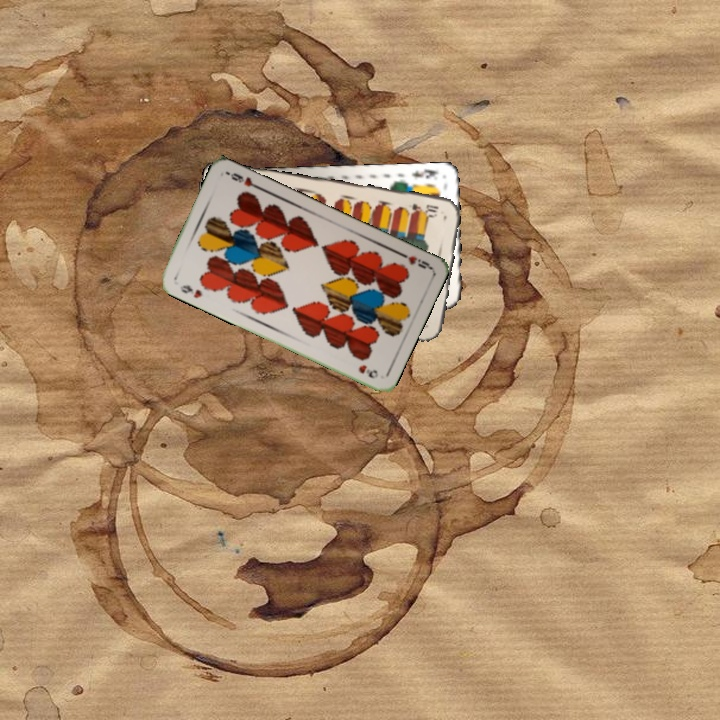E10: (408, 199, 441, 218)
EK: (408, 166, 441, 181)
H9: (394, 248, 433, 271), (176, 281, 205, 301)
